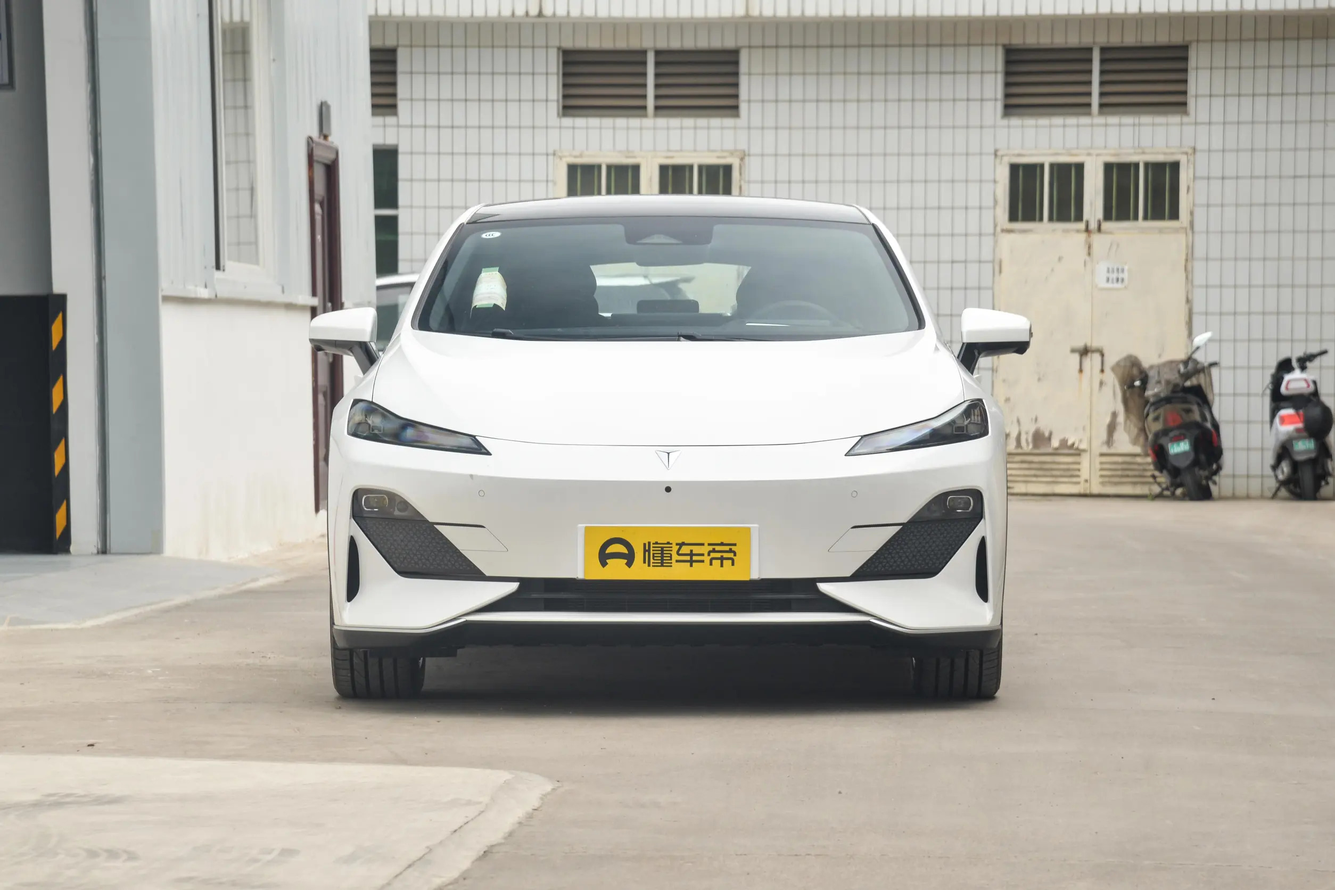Deepal: (655, 449, 681, 469)
